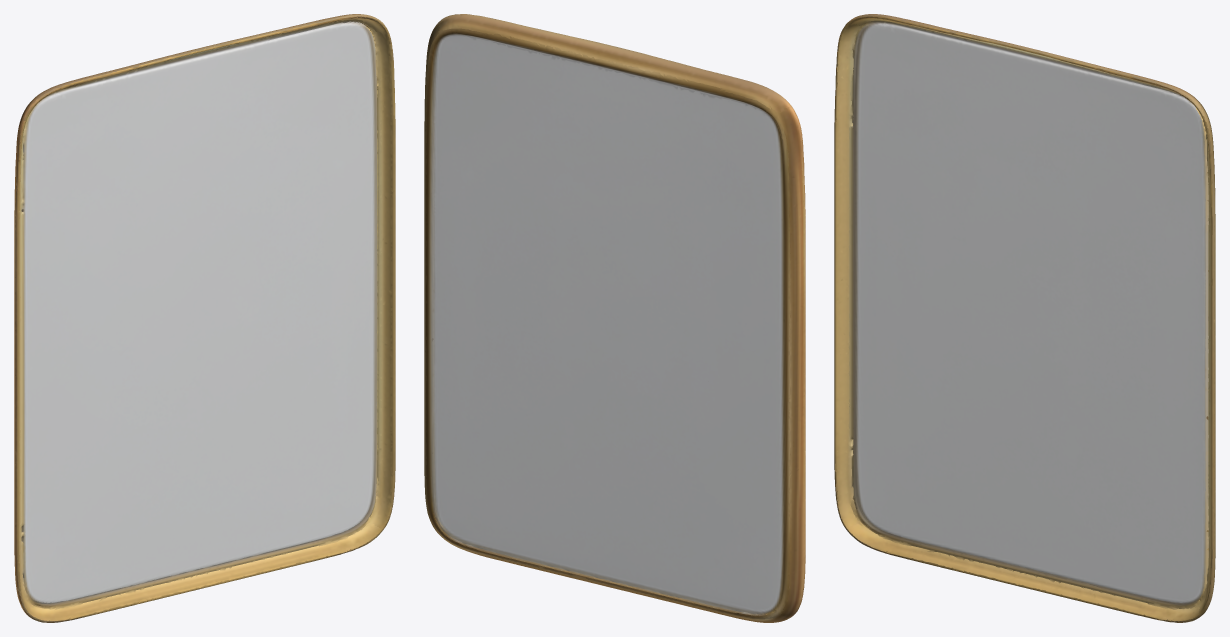
File: item_8601ead1.glb
3 renders of one model, left to right at view 1: azimuth 30°, elevation 25°; view 2: azimuth 150°, elevation 25°; view 3: azimuth 330°, elevation 25°, orthographic.
Visible parts, largest first — view 1: geometry_0; view 2: geometry_0; view 3: geometry_0.
Boxes of the visible parts, box(x1,y1,x2,y2) form: geometry_0: box(14, 14, 395, 622); geometry_0: box(424, 14, 805, 622); geometry_0: box(834, 14, 1215, 622).
Size of the model in its own units: 0.8 by 1.09 by 0.0354.
Materials: 1 (1 with a texture image).
